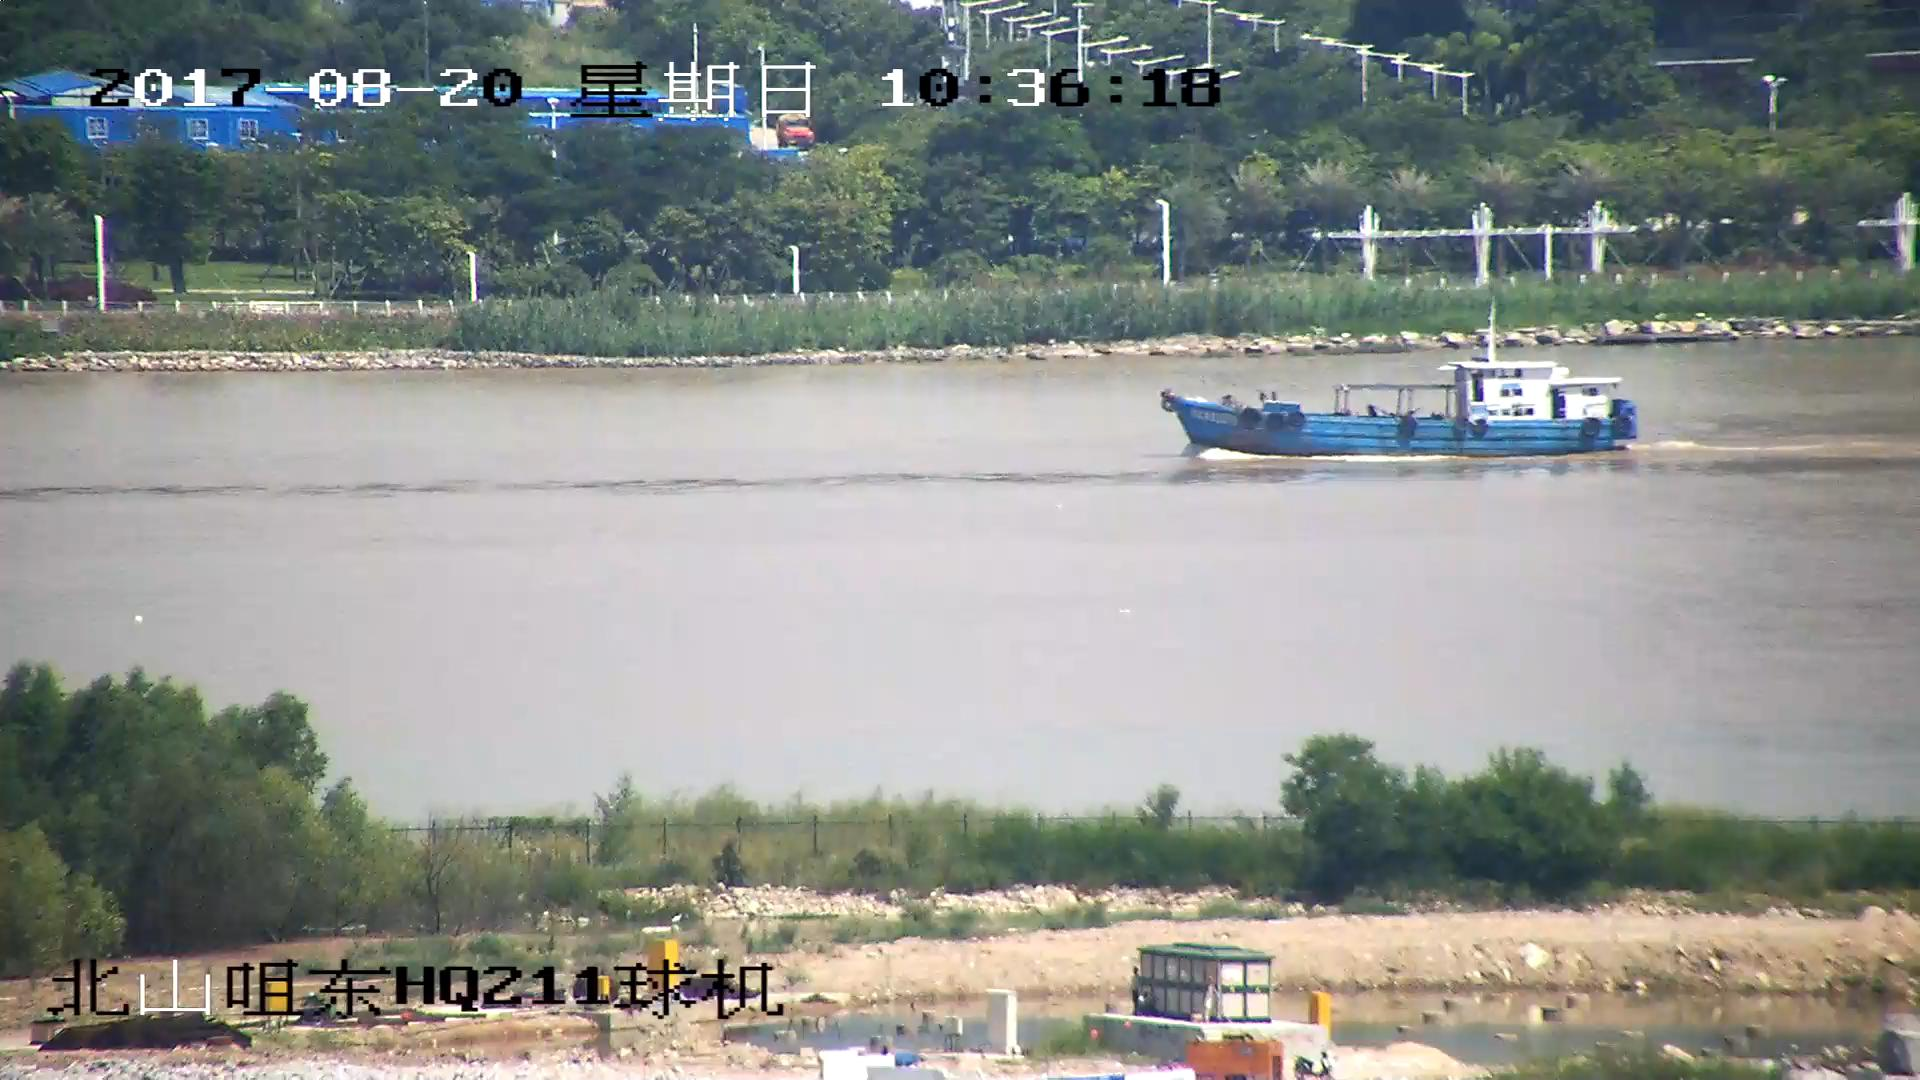fishing boat: (1162, 299, 1632, 457)
